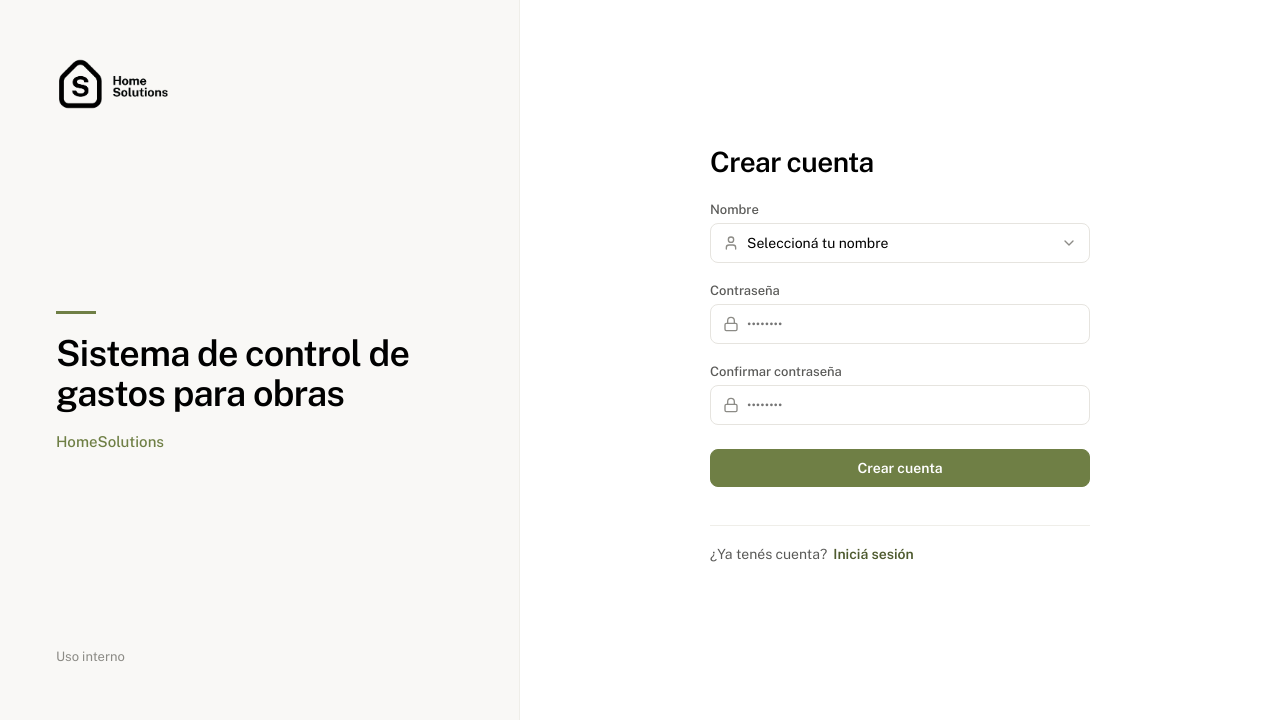
Scenario: Registro › avisa que el nombre no está autorizado si el backend devuelve 403
Select "Agustin" in the dropdown at (900, 242), box [747,224,1053,262]
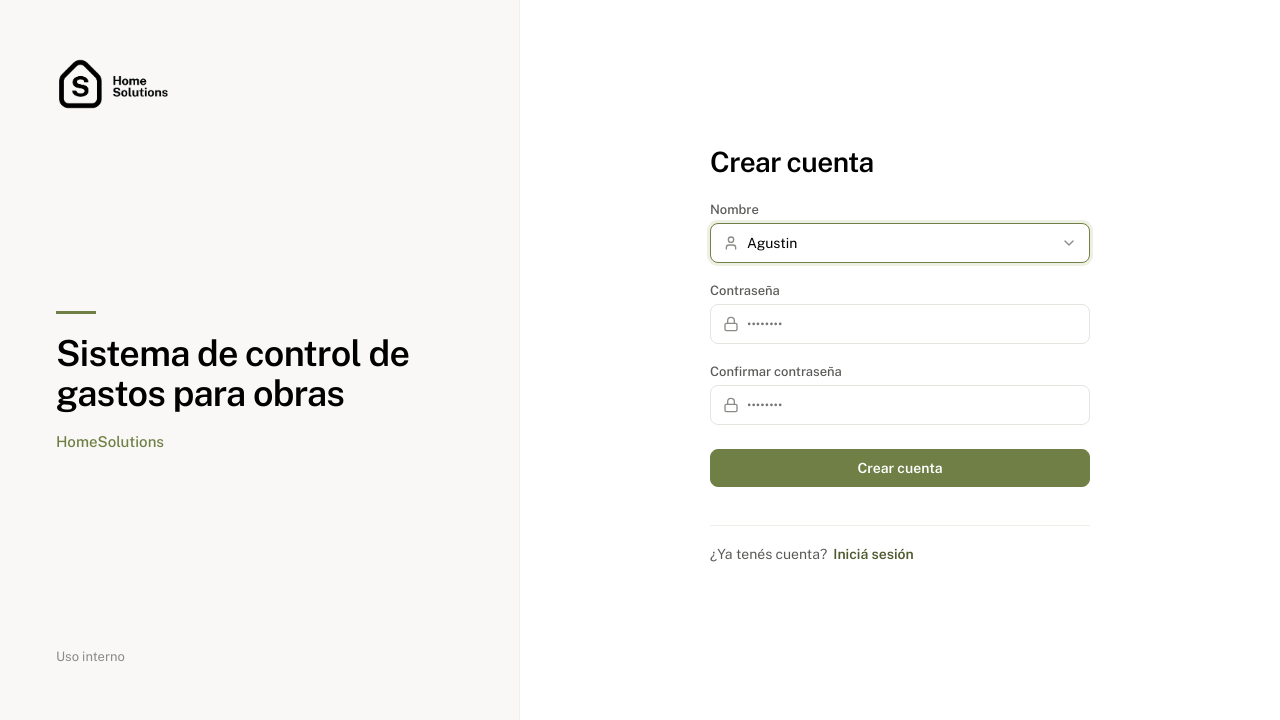
Type "clave-cualquiera" into the password field with placeholder "••••••••" at (912, 324), box [747,304,1077,342]
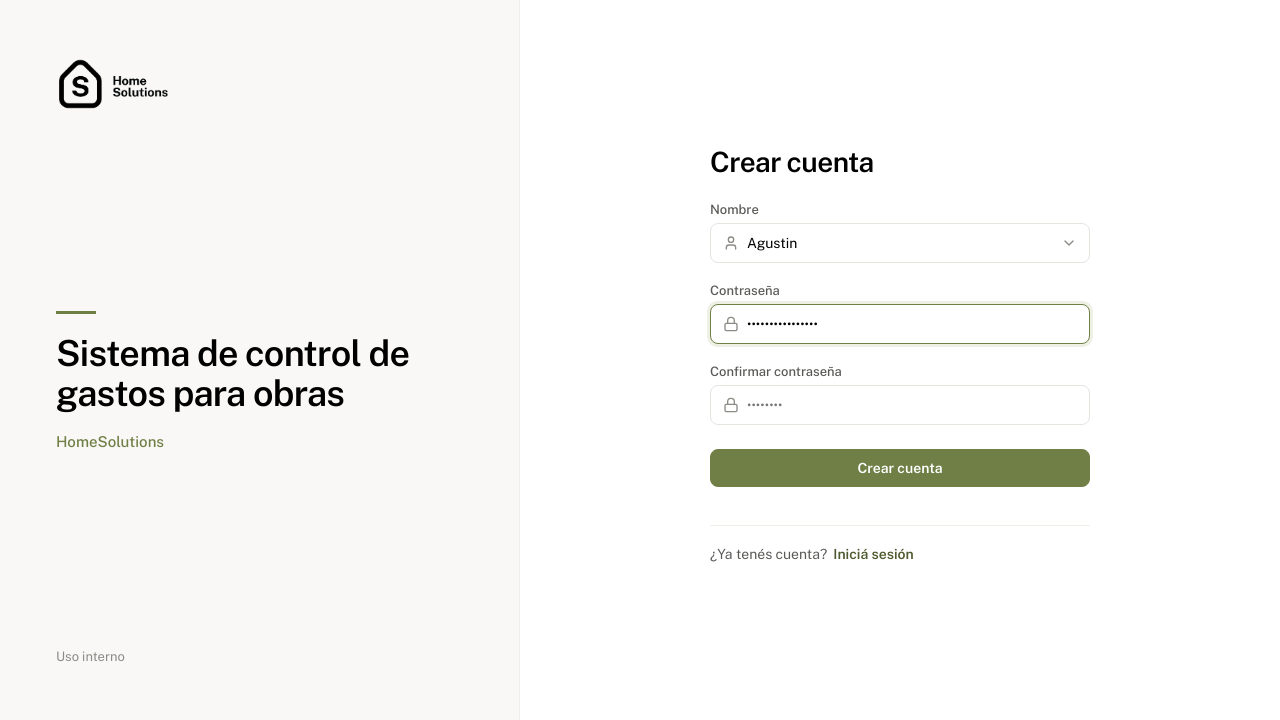
Type "clave-cualquiera" into the password field with placeholder "••••••••" at (912, 404), box [747,386,1077,424]
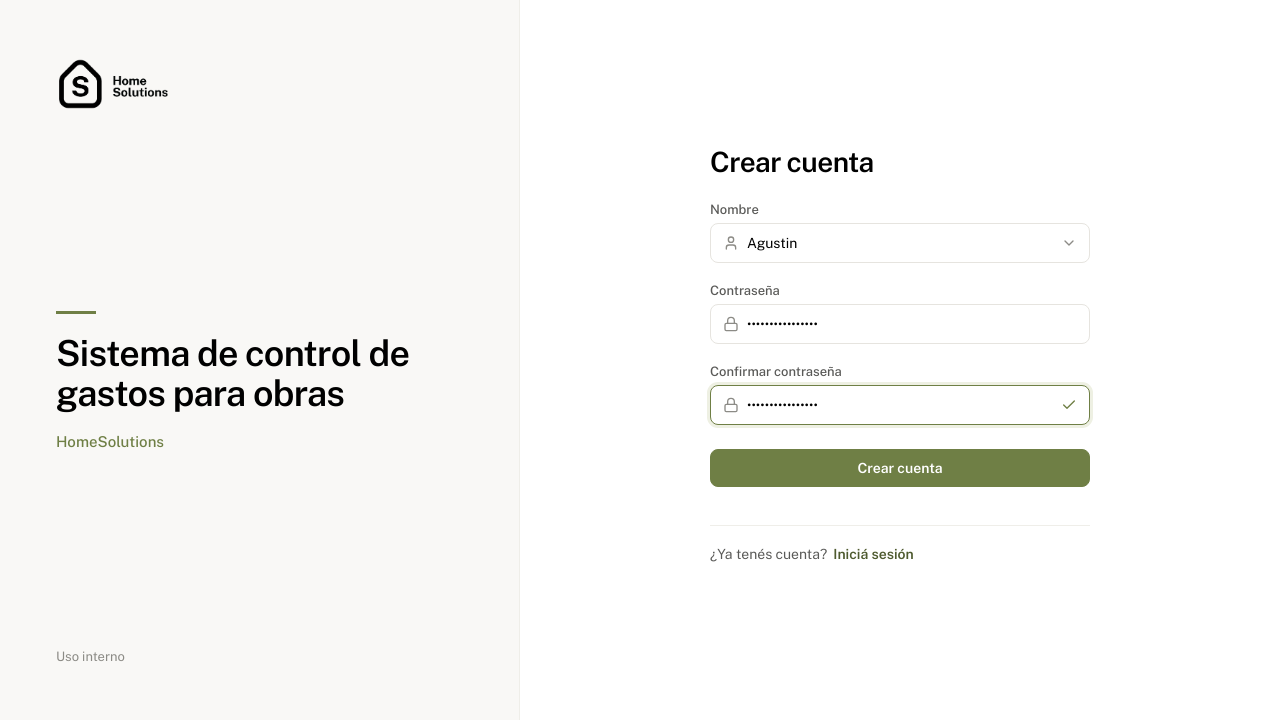
Click the button "Crear cuenta" at (900, 468), box [710,448,1090,486]
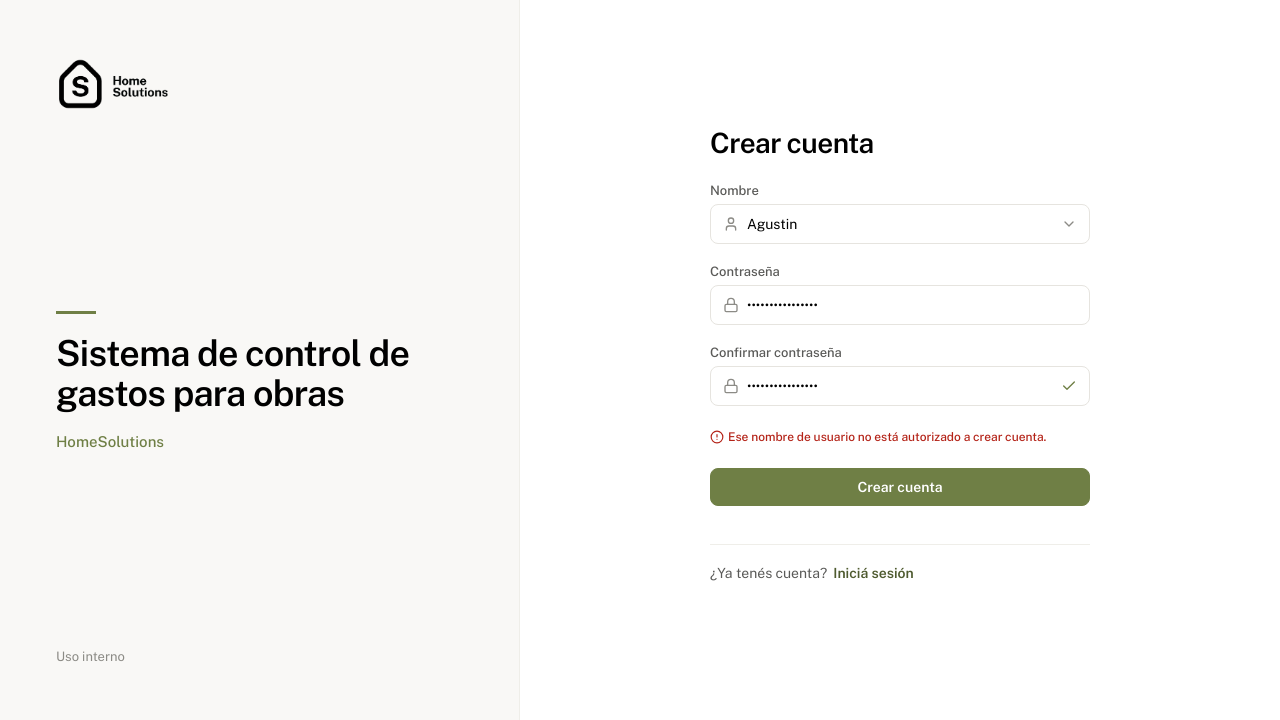
Expected: the text "Ese nombre de usuario no está autorizado a crear cuenta." is shown, [710,430,1090,444]
